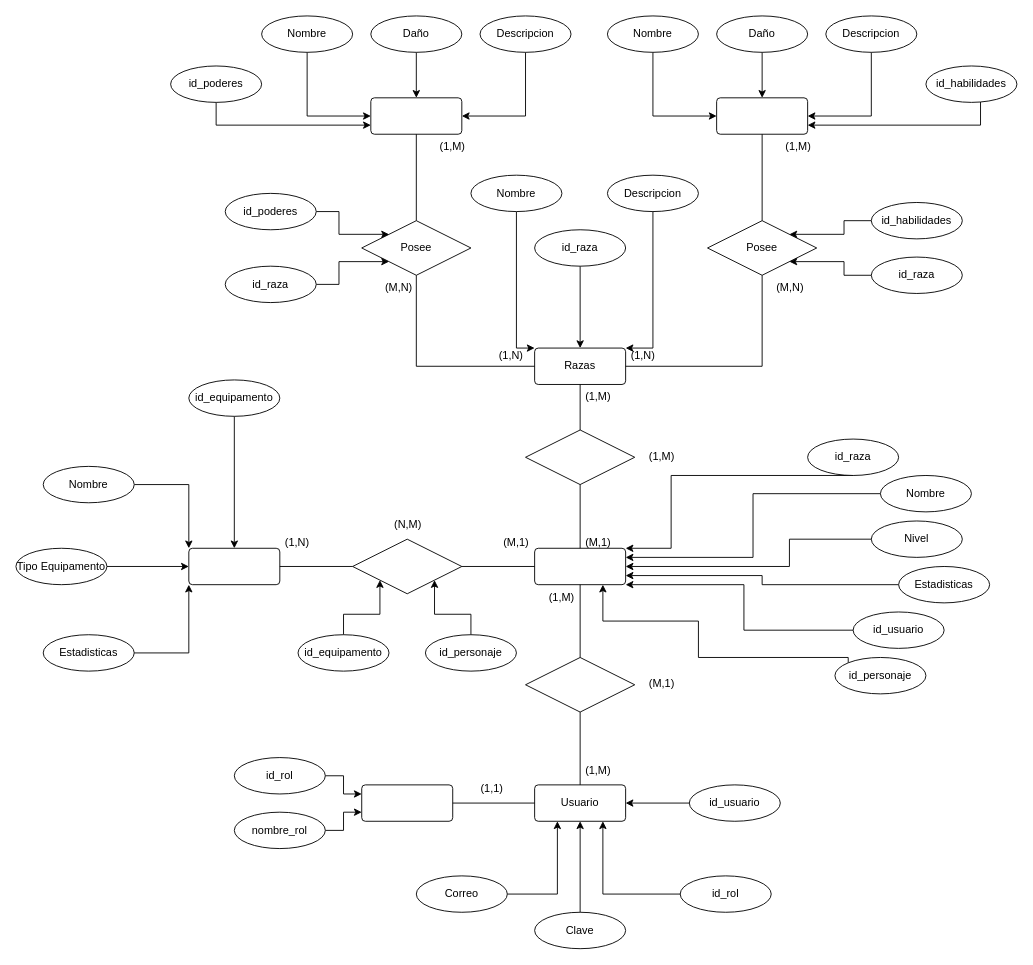
Some shapes in this 1033 by 965 pixel diagram are drawn without their labels. The shapes that lost their labels are listed below. From the top down, each one's centre as x and y in pixels, then its label:
At point (416, 115): "Poderes".
At point (762, 115): "Habilidades".
At point (580, 457): "Escoge".
At point (234, 566): "Equipamento".
At point (407, 566): "Equipa".
At point (580, 566): "Personaje".
At point (580, 684): "Tiene".
At point (407, 802): "Rol".
